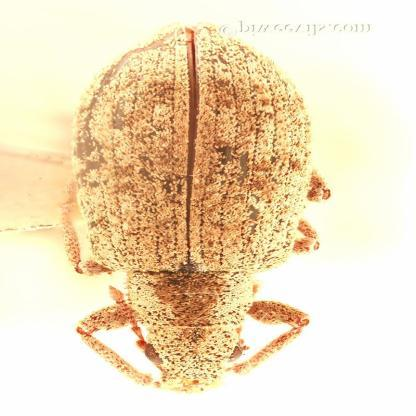rice-bug: (56, 19, 334, 395)
